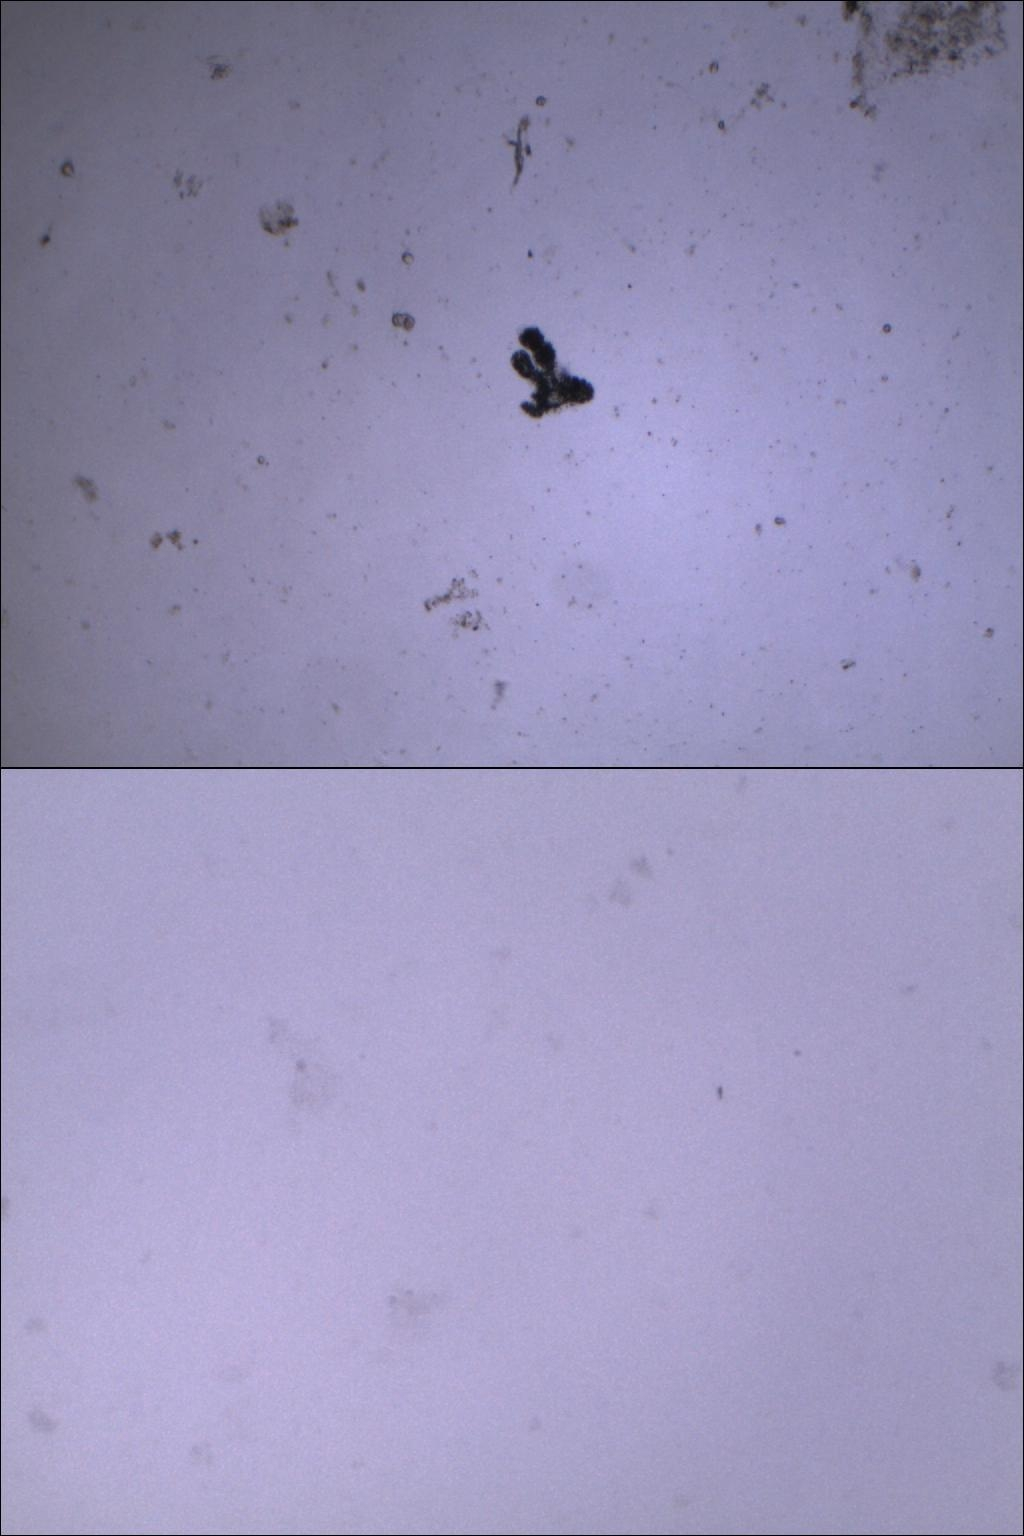N.Fowleri Amoeba: (245, 995, 373, 1154)
Proteus Amoeba: (494, 310, 609, 437)
